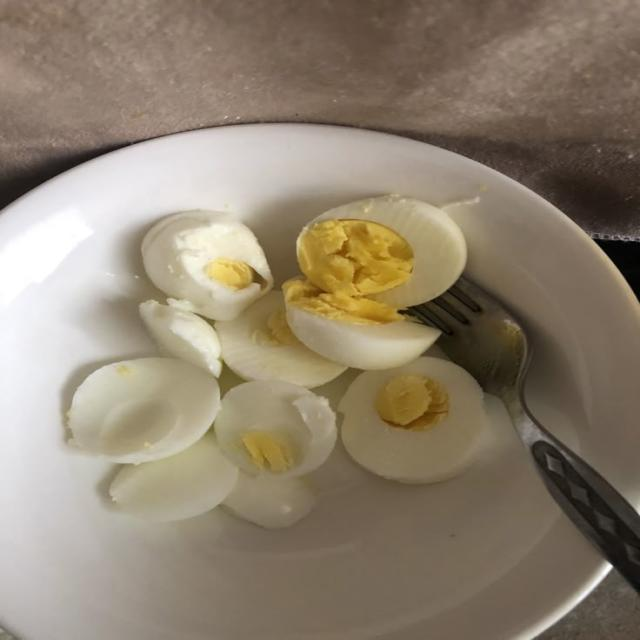egg boiled: (297, 196, 466, 308), (339, 357, 487, 483), (68, 358, 219, 463), (142, 211, 273, 319), (284, 281, 440, 369), (215, 291, 346, 387), (214, 381, 336, 477), (110, 434, 239, 521), (140, 301, 221, 376), (222, 472, 316, 529)
